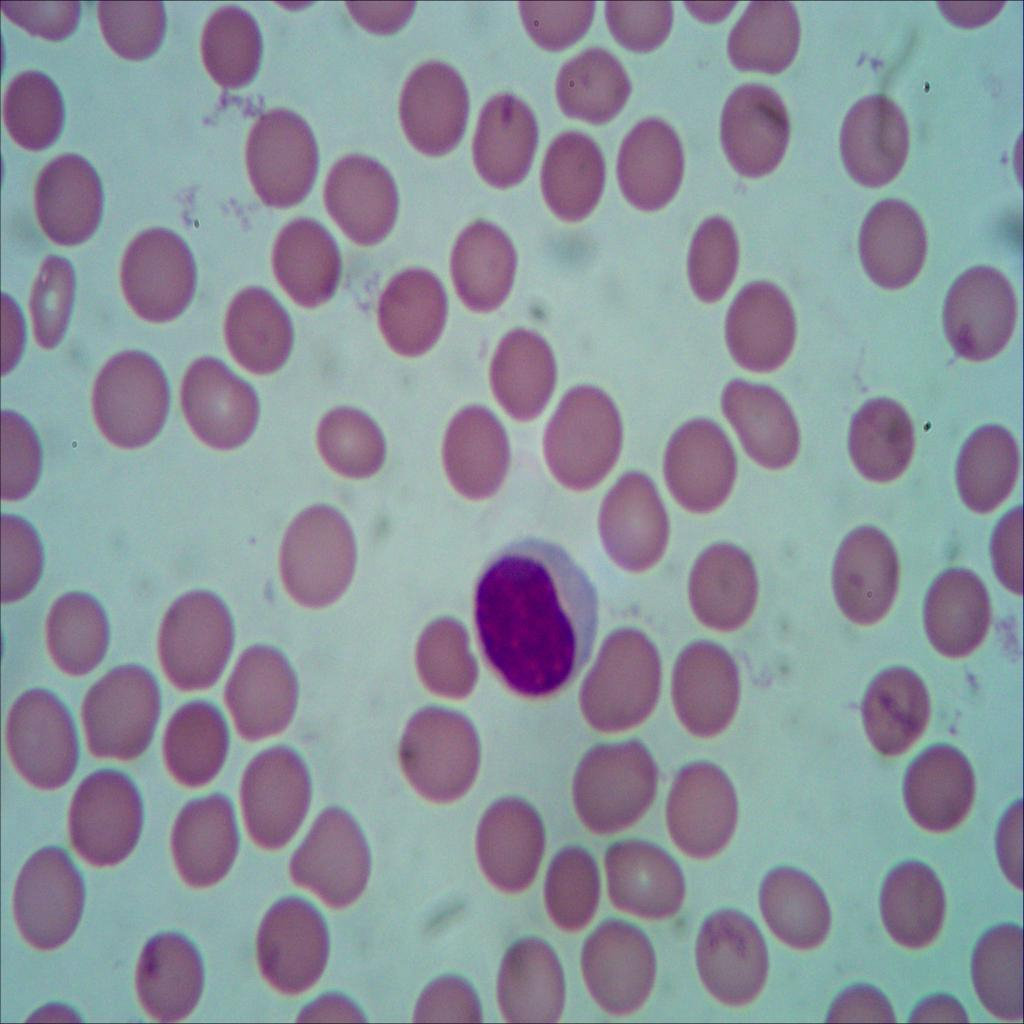Eritrosit: (266, 479, 370, 622), (0, 834, 90, 966), (561, 738, 665, 844), (600, 97, 690, 216), (532, 385, 634, 490), (88, 338, 176, 458), (656, 756, 745, 872), (215, 638, 314, 742), (572, 908, 662, 1022), (233, 726, 312, 853), (714, 371, 808, 477), (294, 800, 379, 916), (174, 354, 262, 466), (713, 276, 804, 384), (688, 907, 778, 1015), (366, 258, 457, 364), (300, 390, 396, 490), (116, 228, 203, 336), (830, 88, 918, 194), (153, 584, 239, 692), (825, 514, 905, 630), (936, 260, 1024, 365), (580, 625, 662, 737), (667, 641, 751, 750), (76, 655, 160, 763), (586, 464, 670, 572), (398, 704, 483, 810), (240, 102, 323, 210), (686, 528, 765, 641), (38, 574, 120, 682), (852, 192, 934, 300), (592, 837, 689, 928), (56, 763, 141, 866), (6, 684, 85, 794), (470, 796, 546, 910), (440, 217, 524, 320), (26, 144, 108, 249), (252, 891, 336, 993), (192, 10, 283, 104), (216, 281, 296, 387), (854, 658, 937, 760), (918, 555, 993, 666), (438, 401, 520, 501), (717, 79, 792, 187), (749, 861, 839, 950), (872, 850, 952, 950), (168, 788, 242, 894), (661, 416, 739, 516), (151, 694, 235, 786), (717, 0, 809, 84), (132, 930, 214, 1024), (462, 87, 538, 187), (531, 130, 609, 227), (0, 62, 77, 160), (904, 738, 984, 832), (394, 60, 472, 156), (549, 41, 636, 124), (951, 417, 1024, 515), (485, 325, 561, 419), (324, 154, 400, 247), (18, 250, 82, 360), (490, 928, 562, 1024), (848, 390, 918, 485), (410, 616, 486, 700), (684, 204, 742, 314), (271, 217, 340, 309), (537, 839, 599, 926)
Limfoblast: (470, 530, 606, 704)
